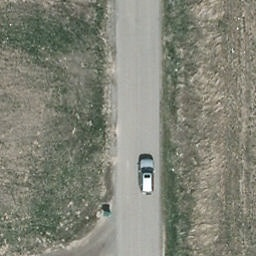car: (140, 158, 156, 195)
